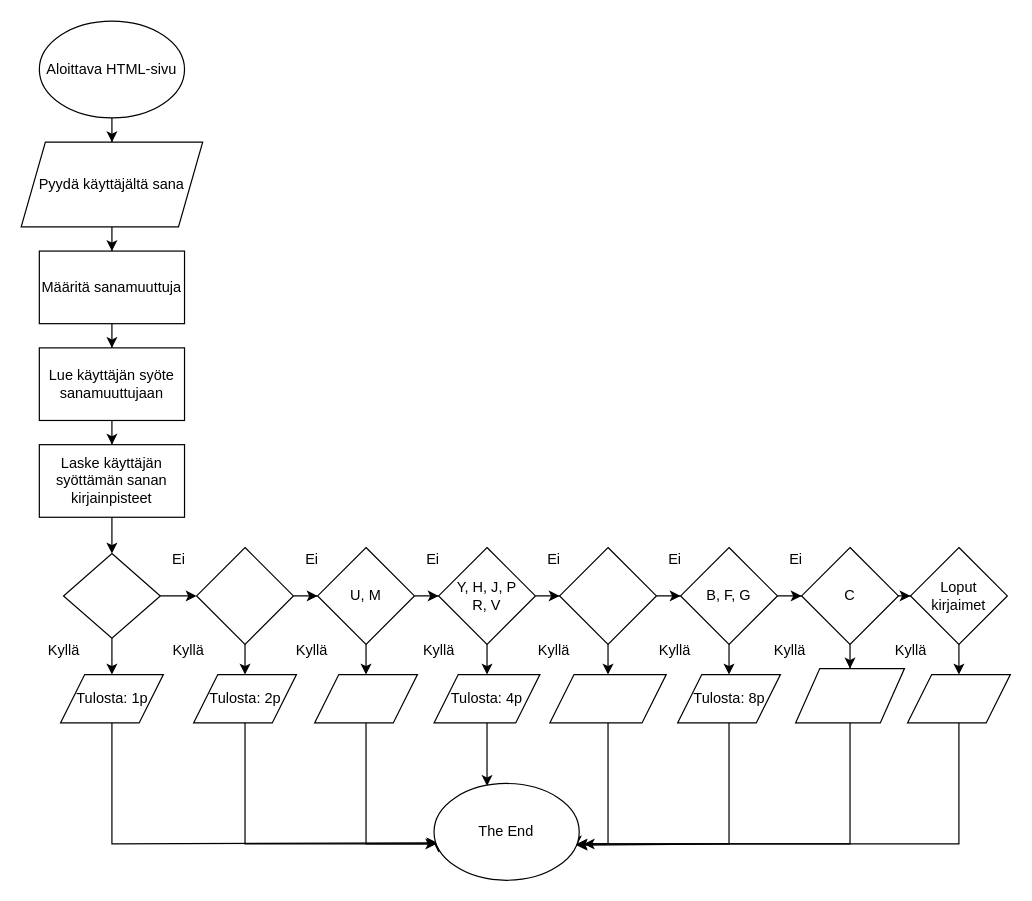
Some shapes in this 1032 by 901 pixel diagram are drawn without their labels. The centre of each missing label's shape, as x and y in pixels:
"A, E, I, N S, T" belongs at [111,595].
"O. Ä, K, L" belongs at [244,595].
"Tulosta: 10p" belongs at [849,695].
"Tulosta: 12p" belongs at [958,698].
"Tulosta: 3p" belongs at [365,698].
"Tulosta: 7p" belongs at [607,698].
"Ö,D" belongs at [607,595].
